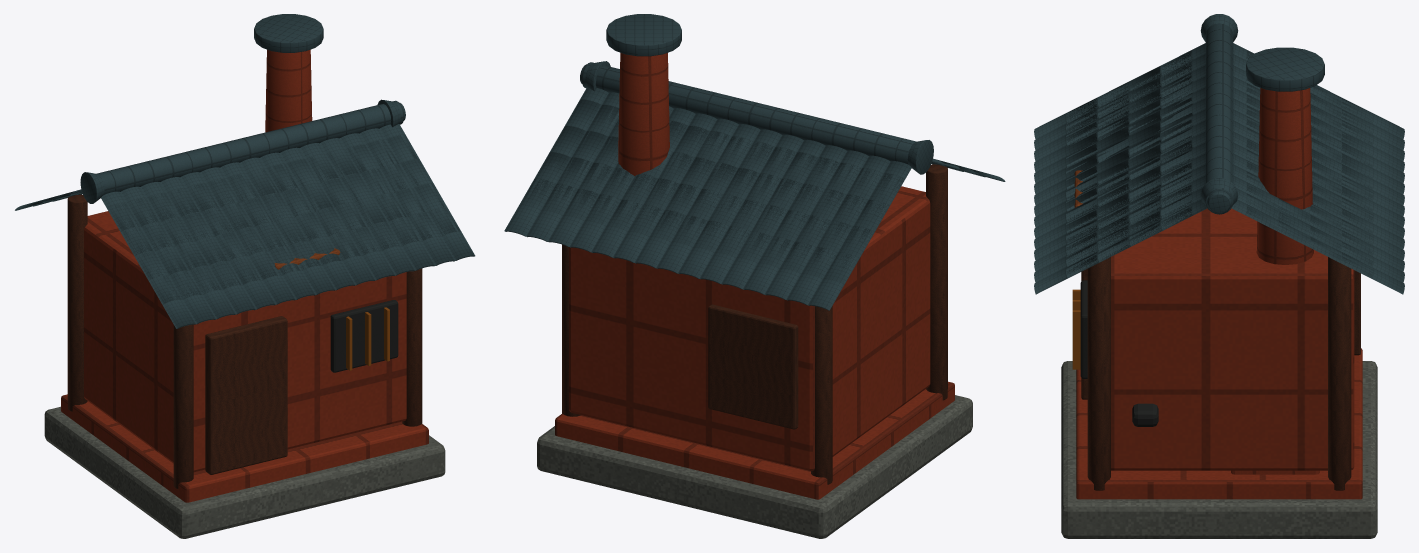
Rendered from building_workshop.glb.
3 renders of one model, left to right at view 1: azimuth 30°, elevation 25°; view 2: azimuth 150°, elevation 25°; view 3: azimuth 270°, elevation 25°, orthographic. The views are drawn at different scales.
Visible parts, largest first — view 1: WorkshopWalls, WorkshopFoundation, WorkshopDoor, FireproofFloor, RoofRidge.003, WorkshopPost.001, Chimney, WorkshopPost, WorkshopWindow, WorkshopPost.002, ChimneyCap, RoofTile.459 (+68 smaller); view 2: WorkshopWalls, WorkshopFoundation, FireproofFloor, ToolRack, RoofRidge.003, Chimney, WorkshopPost, WorkshopPost.001, ChimneyCap, RoofTile.549, RoofTile.519, RoofTile.507 (+64 smaller); view 3: WorkshopWalls, WorkshopFoundation, FireproofFloor, Chimney, WorkshopPost.002, WorkshopPost.003, RoofRidge.003, ChimneyCap, RidgeEnd.007, WorkshopWindow, RoofTile.404, RoofTile.402 (+88 smaller).
Part boxes in pixels (<box>): WorkshopWalls: <box>84,211,406,472</box>; WorkshopFoundation: <box>44,406,445,538</box>; WorkshopDoor: <box>205,316,287,474</box>; FireproofFloor: <box>61,394,428,502</box>; RoofRidge.003: <box>96,100,403,194</box>; WorkshopPost.001: <box>67,194,87,411</box>; Chimney: <box>265,49,312,132</box>; WorkshopPost: <box>173,324,193,488</box>; WorkshopWindow: <box>330,300,398,372</box>; WorkshopPost.002: <box>402,268,422,426</box>; ChimneyCap: <box>254,14,323,52</box>; RoofTile.459: <box>368,222,415,275</box>; WorkshopWalls: <box>569,186,930,470</box>; WorkshopFoundation: <box>537,395,972,538</box>; FireproofFloor: <box>555,381,954,499</box>; ToolRack: <box>708,304,798,429</box>; RoofRidge.003: <box>582,62,915,164</box>; Chimney: <box>618,53,669,175</box>; WorkshopPost: <box>926,164,947,400</box>; WorkshopPost.001: <box>811,306,832,484</box>; ChimneyCap: <box>606,14,681,56</box>; RoofTile.549: <box>504,178,555,236</box>; RoofTile.519: <box>634,210,685,268</box>; RoofTile.507: <box>708,168,758,225</box>; WorkshopWalls: <box>1111,208,1354,470</box>; WorkshopFoundation: <box>1061,361,1377,538</box>; FireproofFloor: <box>1076,348,1362,499</box>; Chimney: <box>1256,88,1313,264</box>; WorkshopPost.002: <box>1087,257,1110,490</box>; WorkshopPost.003: <box>1328,257,1351,490</box>; RoofRidge.003: <box>1205,23,1233,214</box>; ChimneyCap: <box>1246,47,1324,91</box>; RidgeEnd.007: <box>1201,178,1237,213</box>; WorkshopWindow: <box>1080,280,1087,378</box>; RoofTile.404: <box>1034,98,1097,138</box>; RoofTile.402: <box>1097,66,1160,107</box>.
Bounding box in the file's own units: 2.49 × 2.98 × 2.25.
8 materials, 8 textured.
